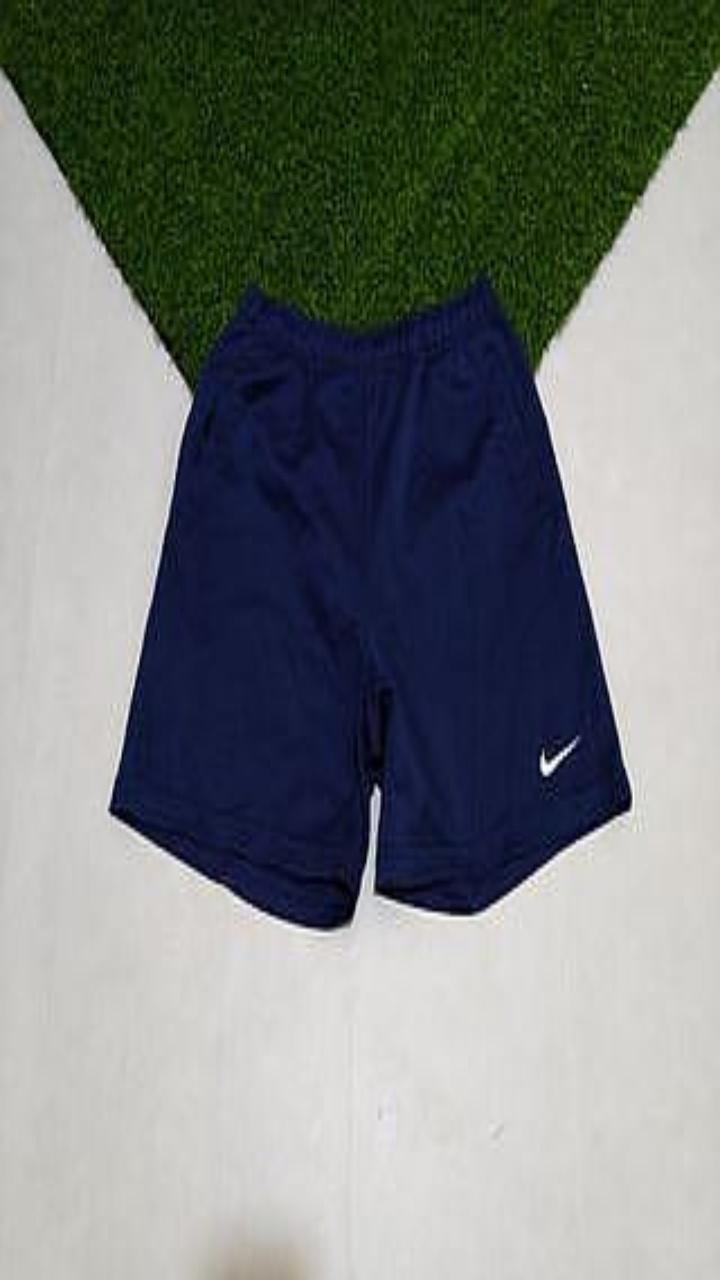Shorts: (110, 276, 630, 927)
